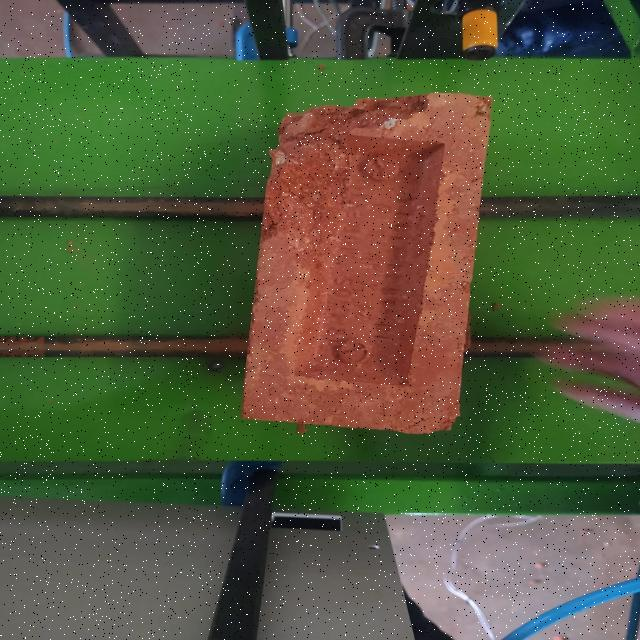bricks_ruin: (238, 95, 484, 434)
